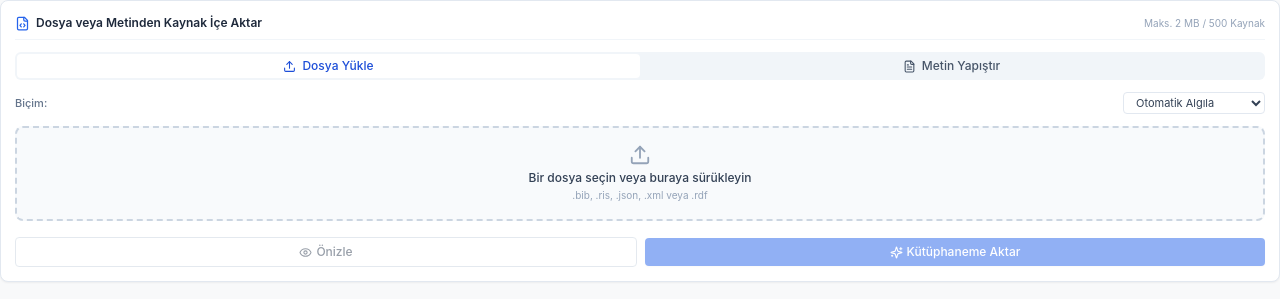
Test: ImportReferences Component › switches to paste text mode when text tab is clicked
The image size is (1280, 299).
Click the button with test id "import-tab-text" at point(952, 66), box [640, 54, 1263, 78]
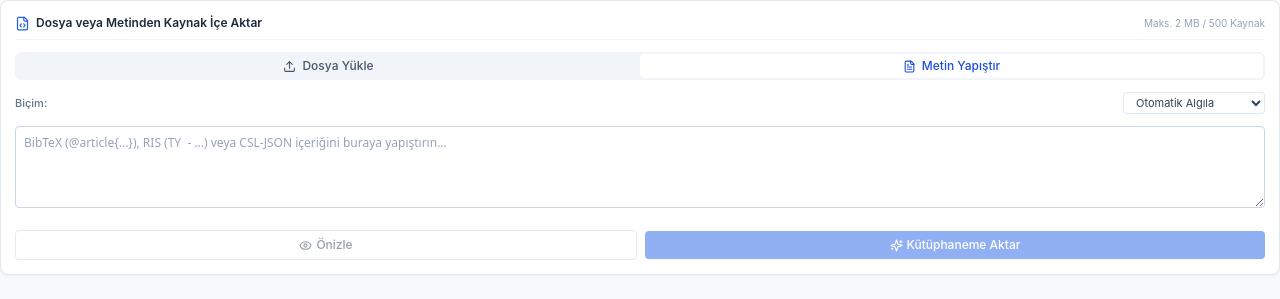
Now the text box with test id "import-text-input" is shown, box [15, 126, 1265, 208]
Now the element with test id "import-dropzone" is gone
